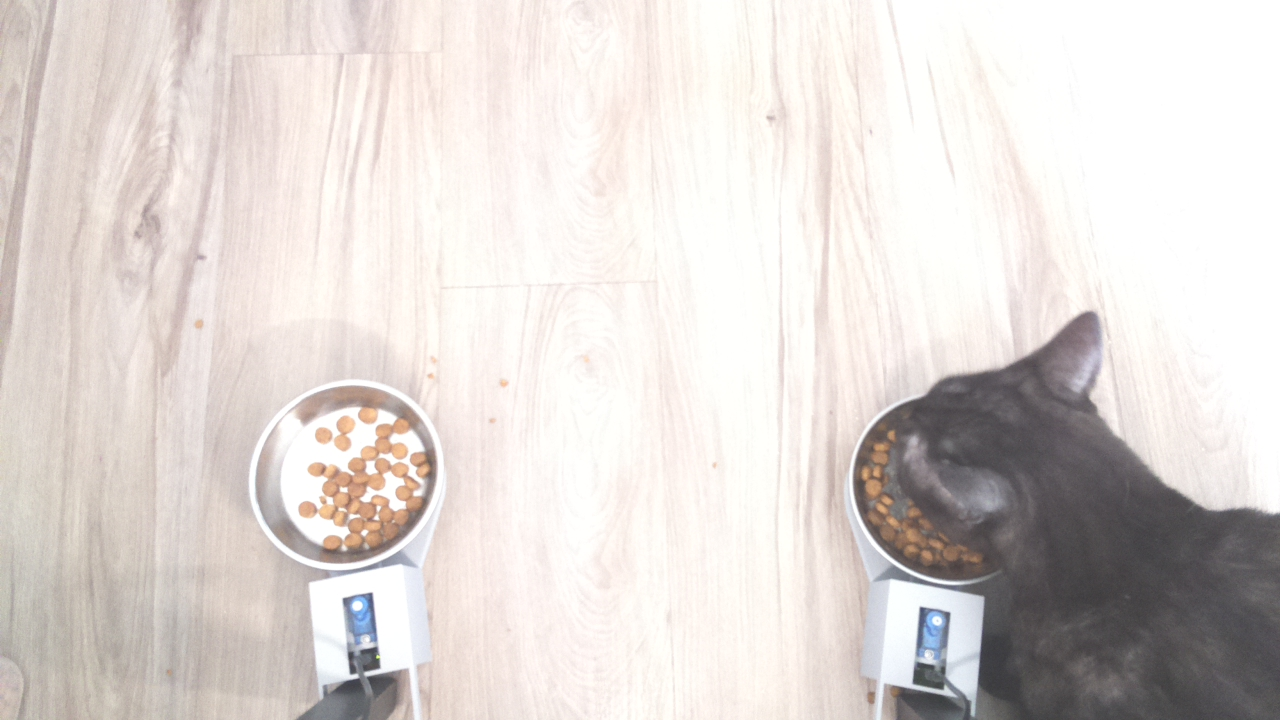open_bowl: (247, 372, 445, 570)
saki_eating: (850, 307, 1186, 625)
